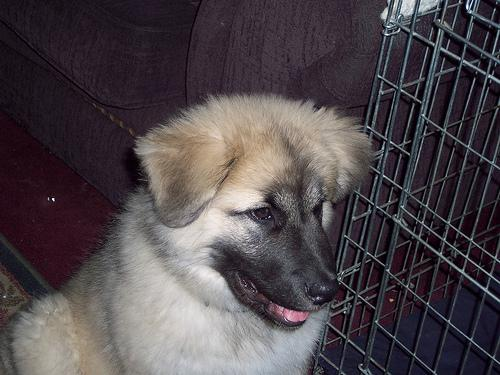dog-leonberger: (133, 95, 368, 329)
